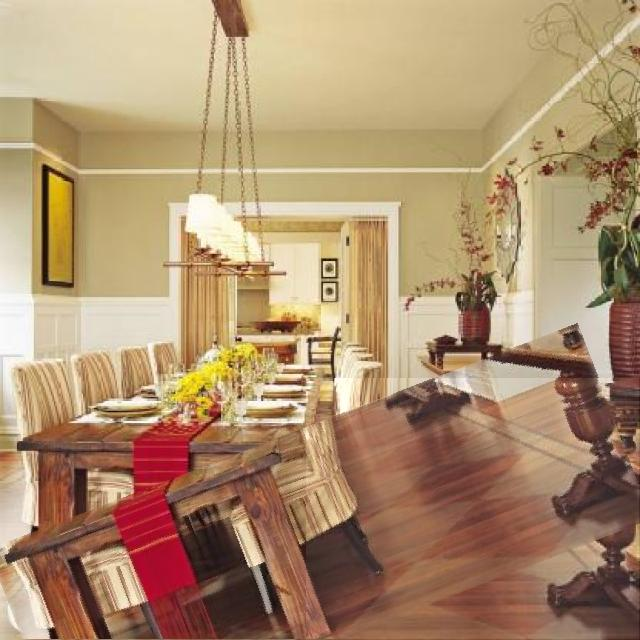floor: (307, 378, 639, 640), (209, 579, 295, 640), (0, 563, 47, 640), (138, 636, 150, 640)
